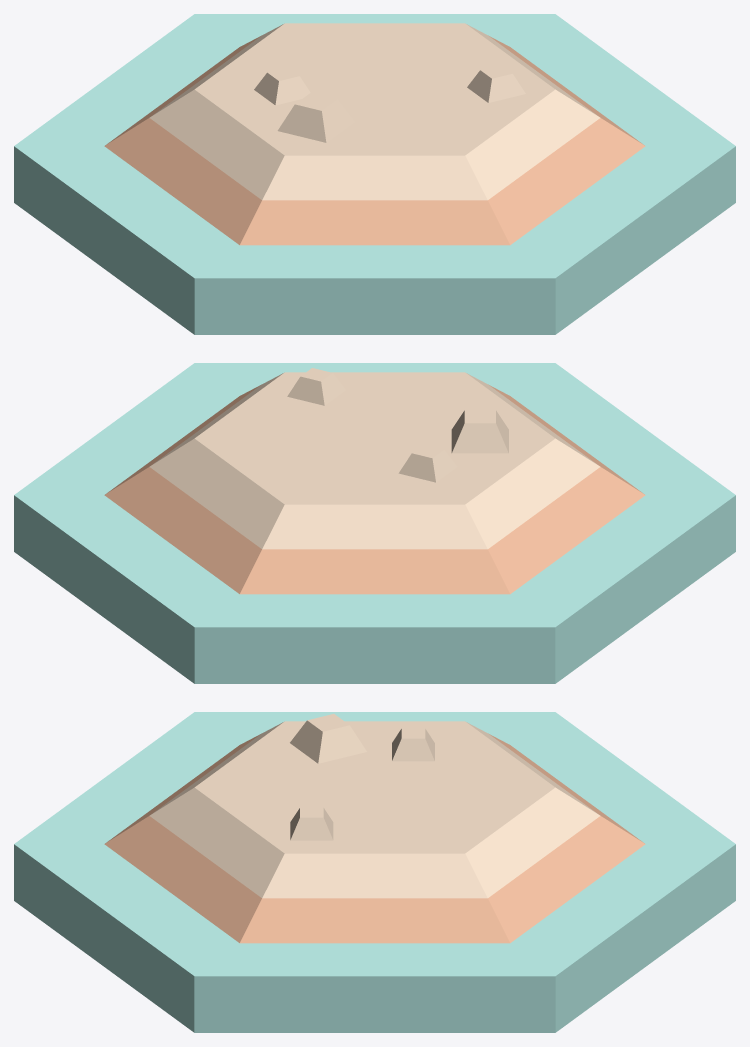
File: water_island.glb
3 views of the same model, one above another, from view 1: azimuth 30°, elevation 25°; view 2: azimuth 150°, elevation 25°; view 3: azimuth 270°, elevation 25° (orthographic).
Visible parts, largest first — view 1: water_island, rock (×3); view 2: water_island, rock (×3); view 3: water_island, rock (×3).
Part boxes in pixels (x1=…): water_island: x1=14, y1=14, x2=735, y2=334; rock (×3): x1=254, y1=65, x2=525, y2=142; water_island: x1=14, y1=363, x2=735, y2=683; rock (×3): x1=287, y1=368, x2=508, y2=482; water_island: x1=14, y1=712, x2=735, y2=1032; rock (×3): x1=290, y1=714, x2=434, y2=840.
Bounding box in the file's own units: 1 × 0.2435 × 1.15.
